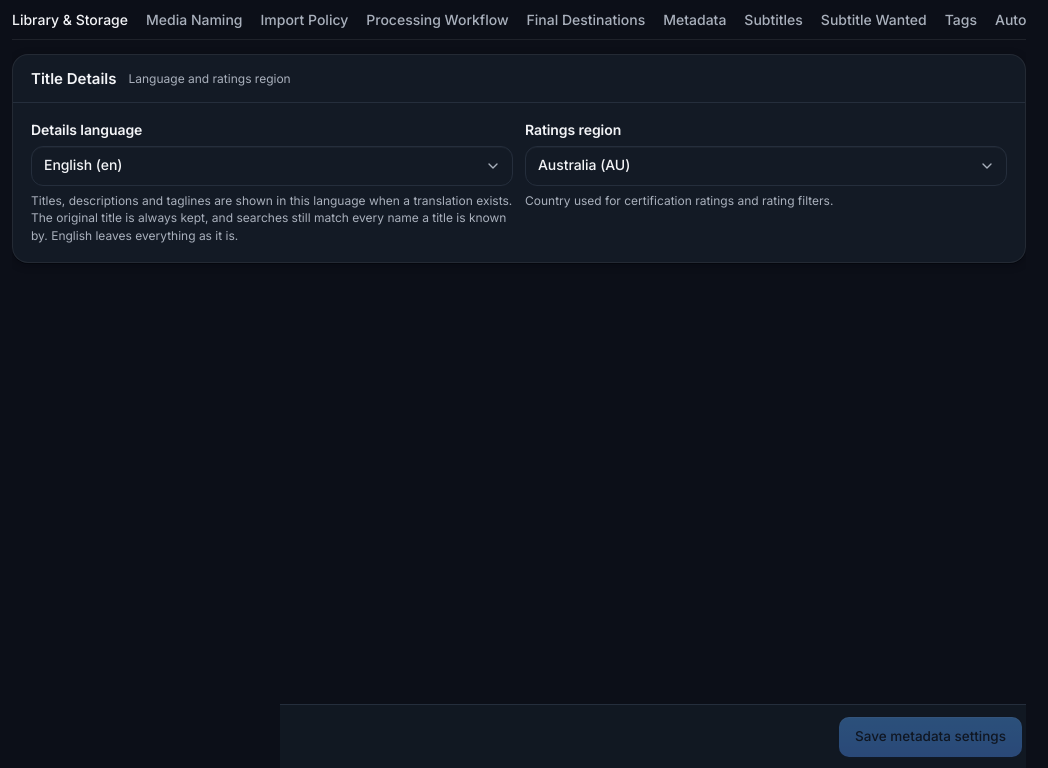
Save metadata settings › puts the server's sentence for a made-up language under the box (#1438)
Select "Other language code" in the dropdown labelled "Details language": (272, 166) [31,146,513,186]
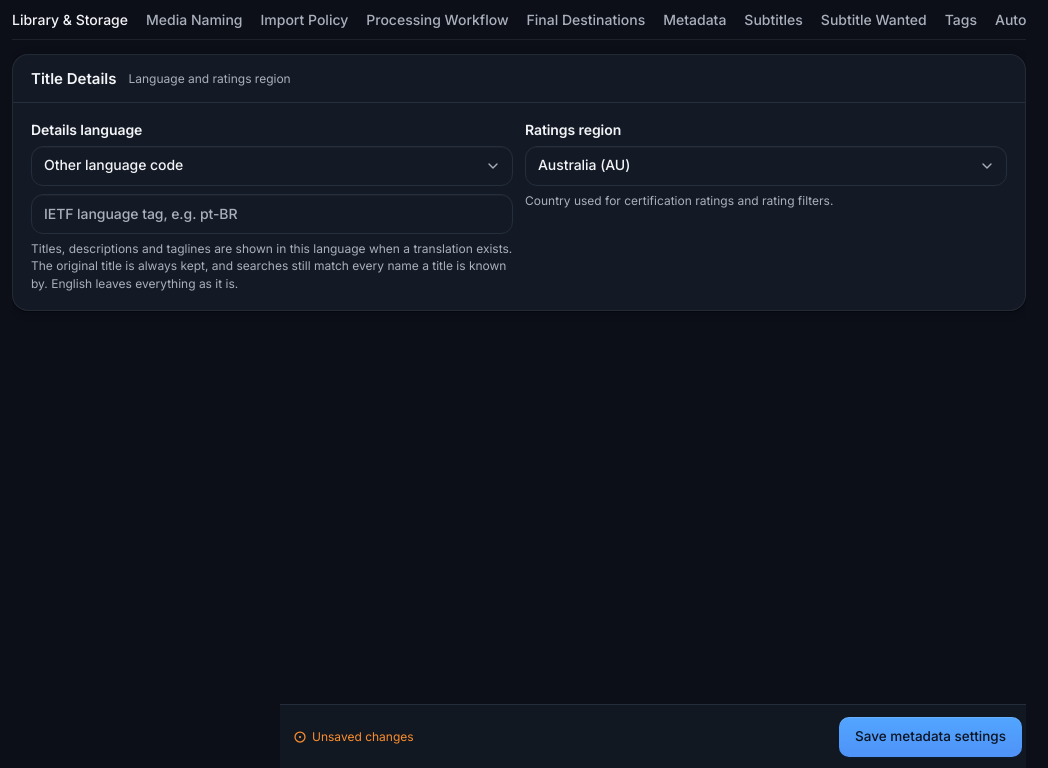
In the field with placeholder "IETF language tag, e.g. pt-BR": (272, 214) [31,194,513,234], type "xx-banana"
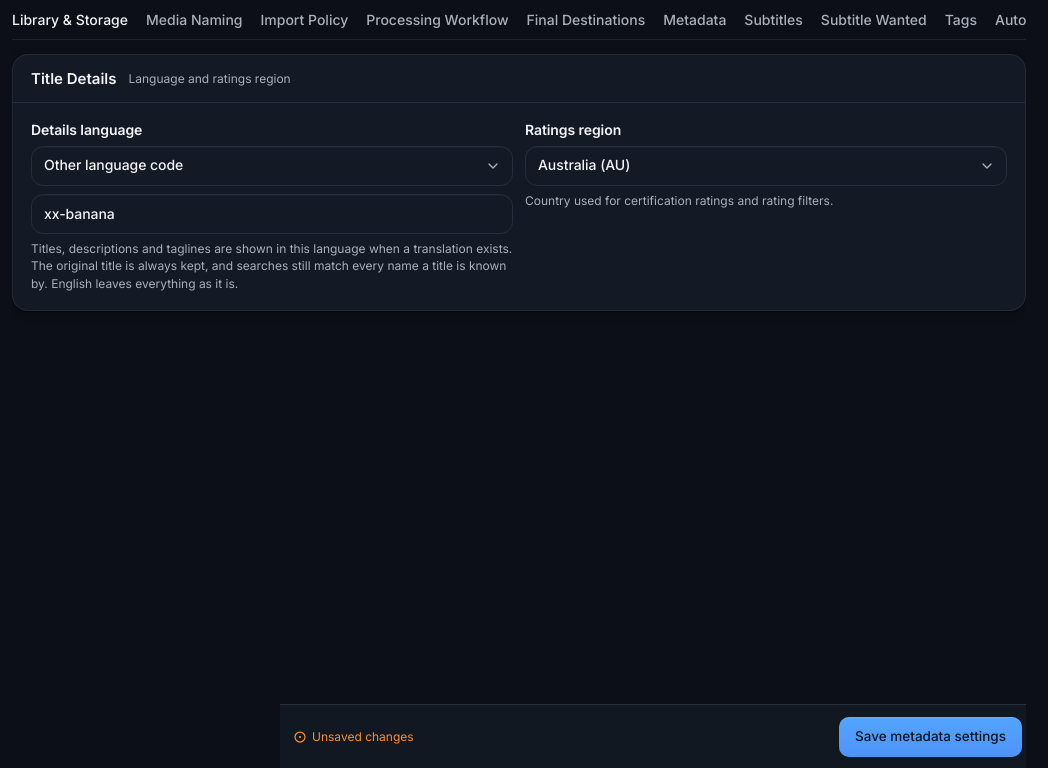
Click the button "Save metadata settings": (931, 736) [839,716,1022,756]
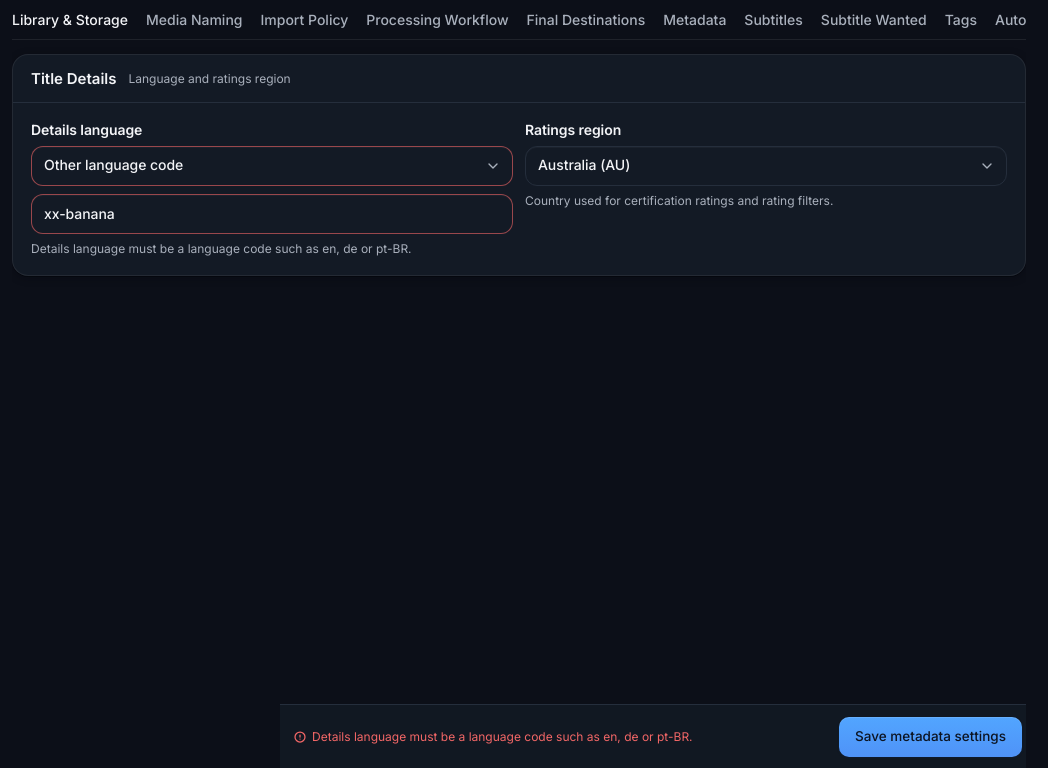
Check: the text "Details language must be a language code such as en, de or pt-BR." below "Title Details" is shown, box [31,241,412,256]
